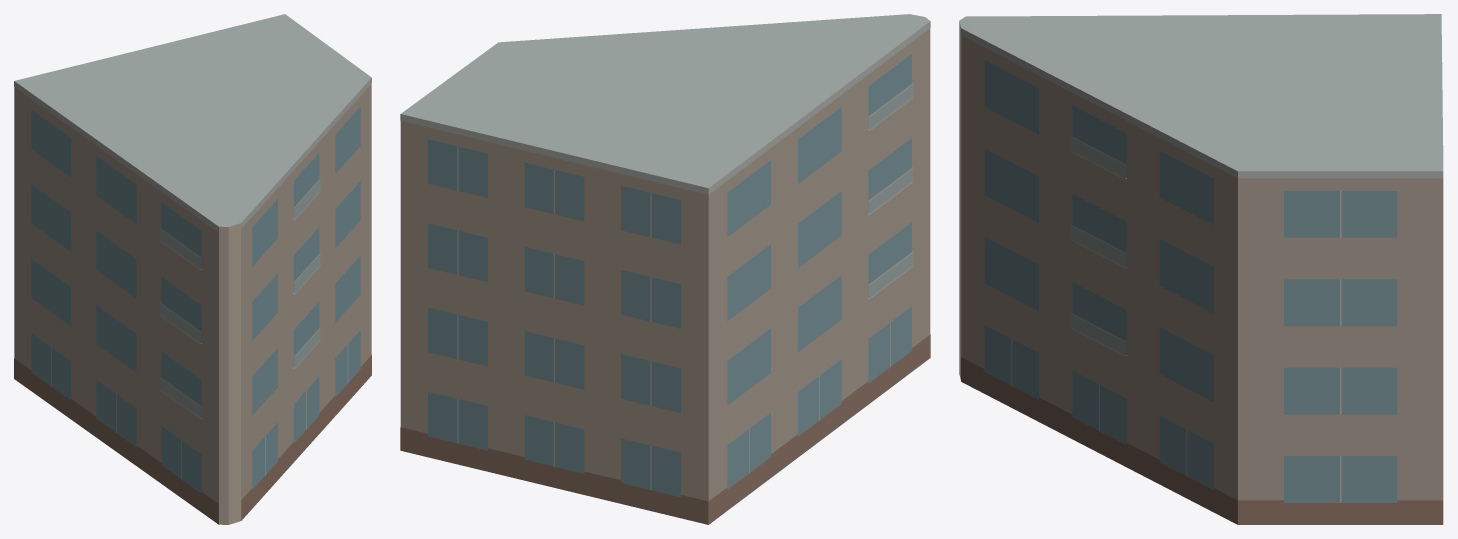
The model's file is survey-upis-32458777.glb.
3 views of the same model, side by side, from view 1: azimuth 30°, elevation 25°; view 2: azimuth 150°, elevation 25°; view 3: azimuth 270°, elevation 25° (orthographic). The views are drawn at different scales.
Parts seen in each view (by area): view 1: survey-upis-32458777.tmp; view 2: survey-upis-32458777.tmp; view 3: survey-upis-32458777.tmp.
Boxes of the visible parts, box(x1,y1,x2,y2) form: survey-upis-32458777.tmp: box(14, 14, 371, 524); survey-upis-32458777.tmp: box(400, 14, 930, 524); survey-upis-32458777.tmp: box(959, 14, 1443, 524).
Bounding box in the file's own units: 11.66 × 12.2 × 15.15.
